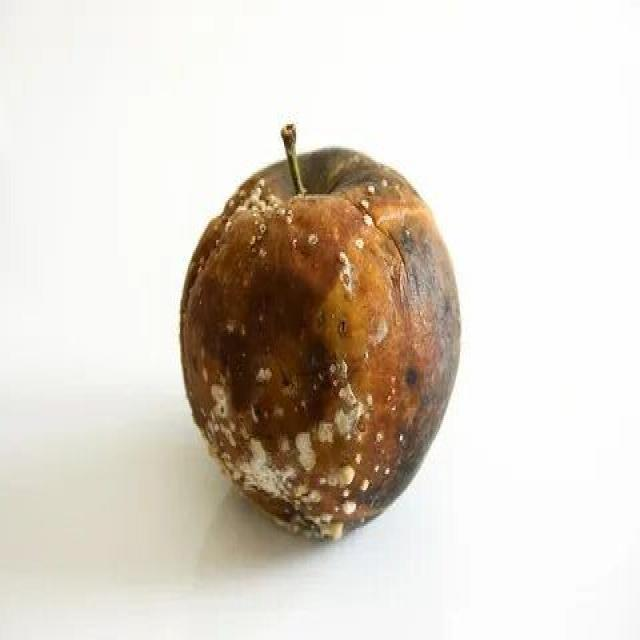Rotten: (170, 155, 490, 542)
